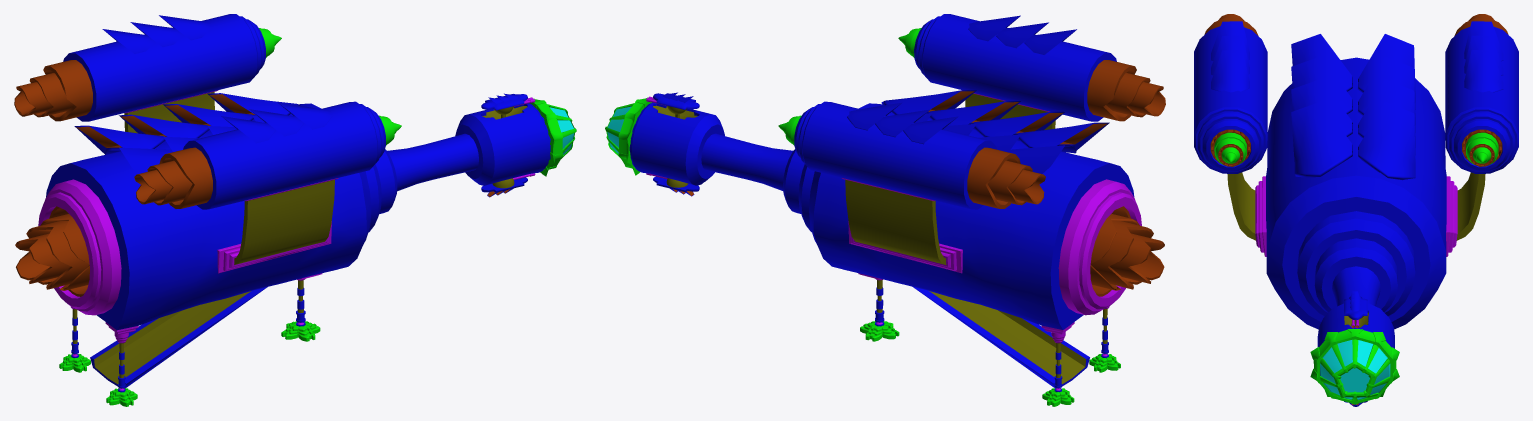
Rendered from shipFBX.fbx.
3 renders of one model, left to right at view 1: azimuth 30°, elevation 25°; view 2: azimuth 150°, elevation 25°; view 3: azimuth 270°, elevation 25°, orthographic. The views are drawn at different scales.
Parts seen in each view (by area): view 1: shipBodyProper, left_booster3, left_booster2, backflaps_parent_flap10, left_booster_booster_flaps_parent_flap15 (×2), left_booster1_booster_flaps_parent_flap16 (×2), left_booster_booster_flaps_parent_flap17 (×2), backflaps_parent_flap9, glassbars, backflaps_parent_flap8, backflaps_parent_flap, front_leg (+4 smaller); view 2: shipBodyProper, left_booster2, left_booster3, backflaps_parent_flap14, left_booster_booster_flaps_parent_flap15 (×2), left_booster_booster_flaps_parent_flap17 (×2), left_booster1_booster_flaps_parent_flap16 (×2), backflaps_parent_flap13, backflaps_parent_flap11, backflaps_parent_flap12, glassbars, front_leg (+4 smaller); view 3: shipBodyProper, left_booster2, left_booster3, backflaps_parent_flap11, backflaps_parent_flap, glassbars, left_booster_booster_flaps_parent_flap15 (×2), front_glass, backflaps_parent_flap13, backflaps_parent_flap12, backflaps_parent_flap14, backflaps_parent_flap9 (+6 smaller).
Part boxes in pixels (left/top/right/bottom): shipBodyProper: left=15, top=103, right=550, bottom=388; left_booster3: left=134, top=101, right=401, bottom=264; left_booster2: left=14, top=14, right=281, bottom=133; backflaps_parent_flap10: left=74, top=125, right=165, bottom=154; left_booster_booster_flaps_parent_flap15 (×2): left=159, top=15, right=332, bottom=129; left_booster1_booster_flaps_parent_flap16 (×2): left=130, top=22, right=303, bottom=136; left_booster_booster_flaps_parent_flap17 (×2): left=102, top=29, right=275, bottom=143; backflaps_parent_flap9: left=119, top=114, right=209, bottom=138; glassbars: left=529, top=98, right=576, bottom=176; backflaps_parent_flap8: left=163, top=104, right=253, bottom=126; backflaps_parent_flap: left=207, top=93, right=300, bottom=115; front_leg: left=281, top=278, right=320, bottom=341; shipBodyProper: left=629, top=102, right=1164, bottom=388; left_booster2: left=778, top=101, right=1045, bottom=264; left_booster3: left=898, top=14, right=1165, bottom=129; backflaps_parent_flap14: left=1017, top=122, right=1109, bottom=153; left_booster_booster_flaps_parent_flap15 (×2): left=847, top=15, right=1020, bottom=130; left_booster_booster_flaps_parent_flap17 (×2): left=903, top=29, right=1076, bottom=144; left_booster1_booster_flaps_parent_flap16 (×2): left=875, top=22, right=1048, bottom=137; backflaps_parent_flap13: left=973, top=111, right=1064, bottom=140; backflaps_parent_flap11: left=881, top=90, right=976, bottom=114; backflaps_parent_flap12: left=928, top=101, right=1020, bottom=128; glassbars: left=605, top=97, right=652, bottom=175; front_leg: left=860, top=278, right=899, bottom=341; shipBodyProper: left=1255, top=57, right=1457, bottom=348; left_booster2: left=1445, top=14, right=1518, bottom=240; left_booster3: left=1194, top=14, right=1267, bottom=240; backflaps_parent_flap11: left=1291, top=101, right=1352, bottom=177; backflaps_parent_flap: left=1358, top=101, right=1415, bottom=180; glassbars: left=1310, top=329, right=1399, bottom=404; left_booster_booster_flaps_parent_flap15 (×2): left=1211, top=50, right=1503, bottom=92; front_glass: left=1320, top=340, right=1390, bottom=399; backflaps_parent_flap13: left=1291, top=56, right=1352, bottom=114; backflaps_parent_flap12: left=1291, top=79, right=1352, bottom=136; backflaps_parent_flap14: left=1291, top=34, right=1352, bottom=91; backflaps_parent_flap9: left=1357, top=56, right=1415, bottom=132.
Size of the model in its own units: 24.48 by 12.54 by 12.13.
